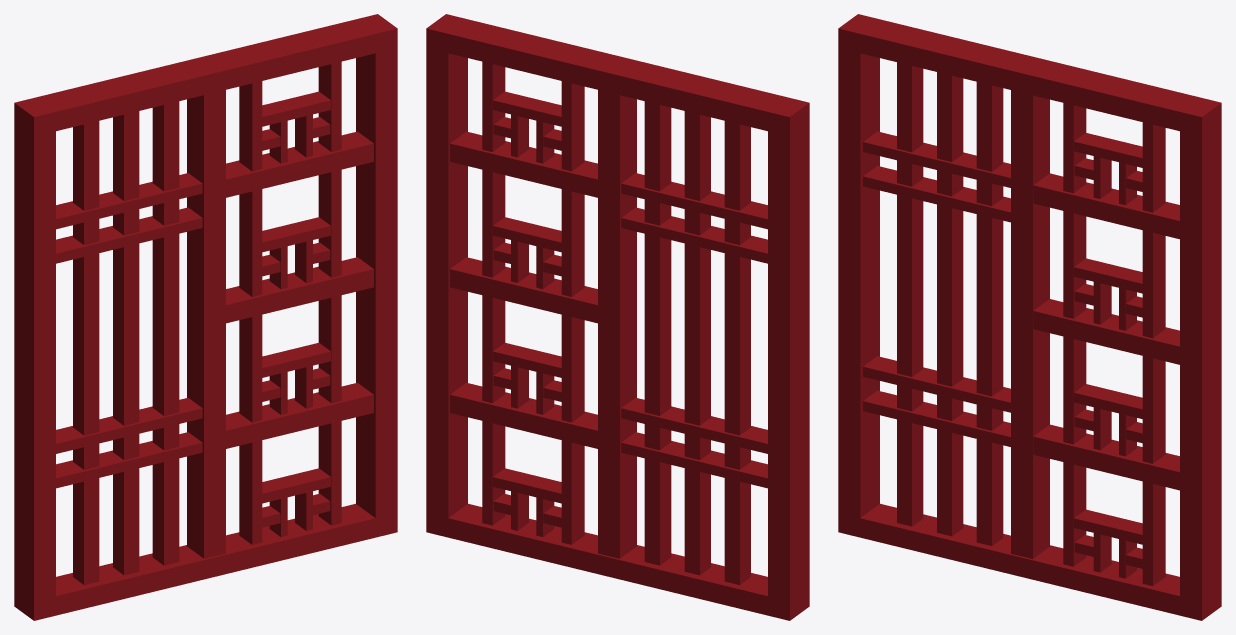
File: Wall_RedWood.fbx
3 renders of one model, left to right at view 1: azimuth 30°, elevation 25°; view 2: azimuth 150°, elevation 25°; view 3: azimuth 330°, elevation 25°, orthographic.
Visible parts, largest first — view 1: Wall_RedWood; view 2: Wall_RedWood; view 3: Wall_RedWood.
Boxes of the visible parts, <box> form: Wall_RedWood: <box>14,14,397,620</box>; Wall_RedWood: <box>426,14,809,620</box>; Wall_RedWood: <box>838,14,1221,620</box>.
Size of the model in its own units: 375 by 496 by 35.45.
